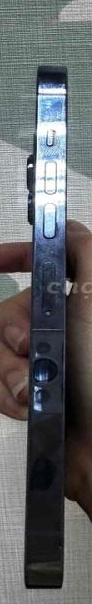scratch: (27, 136, 71, 331)
